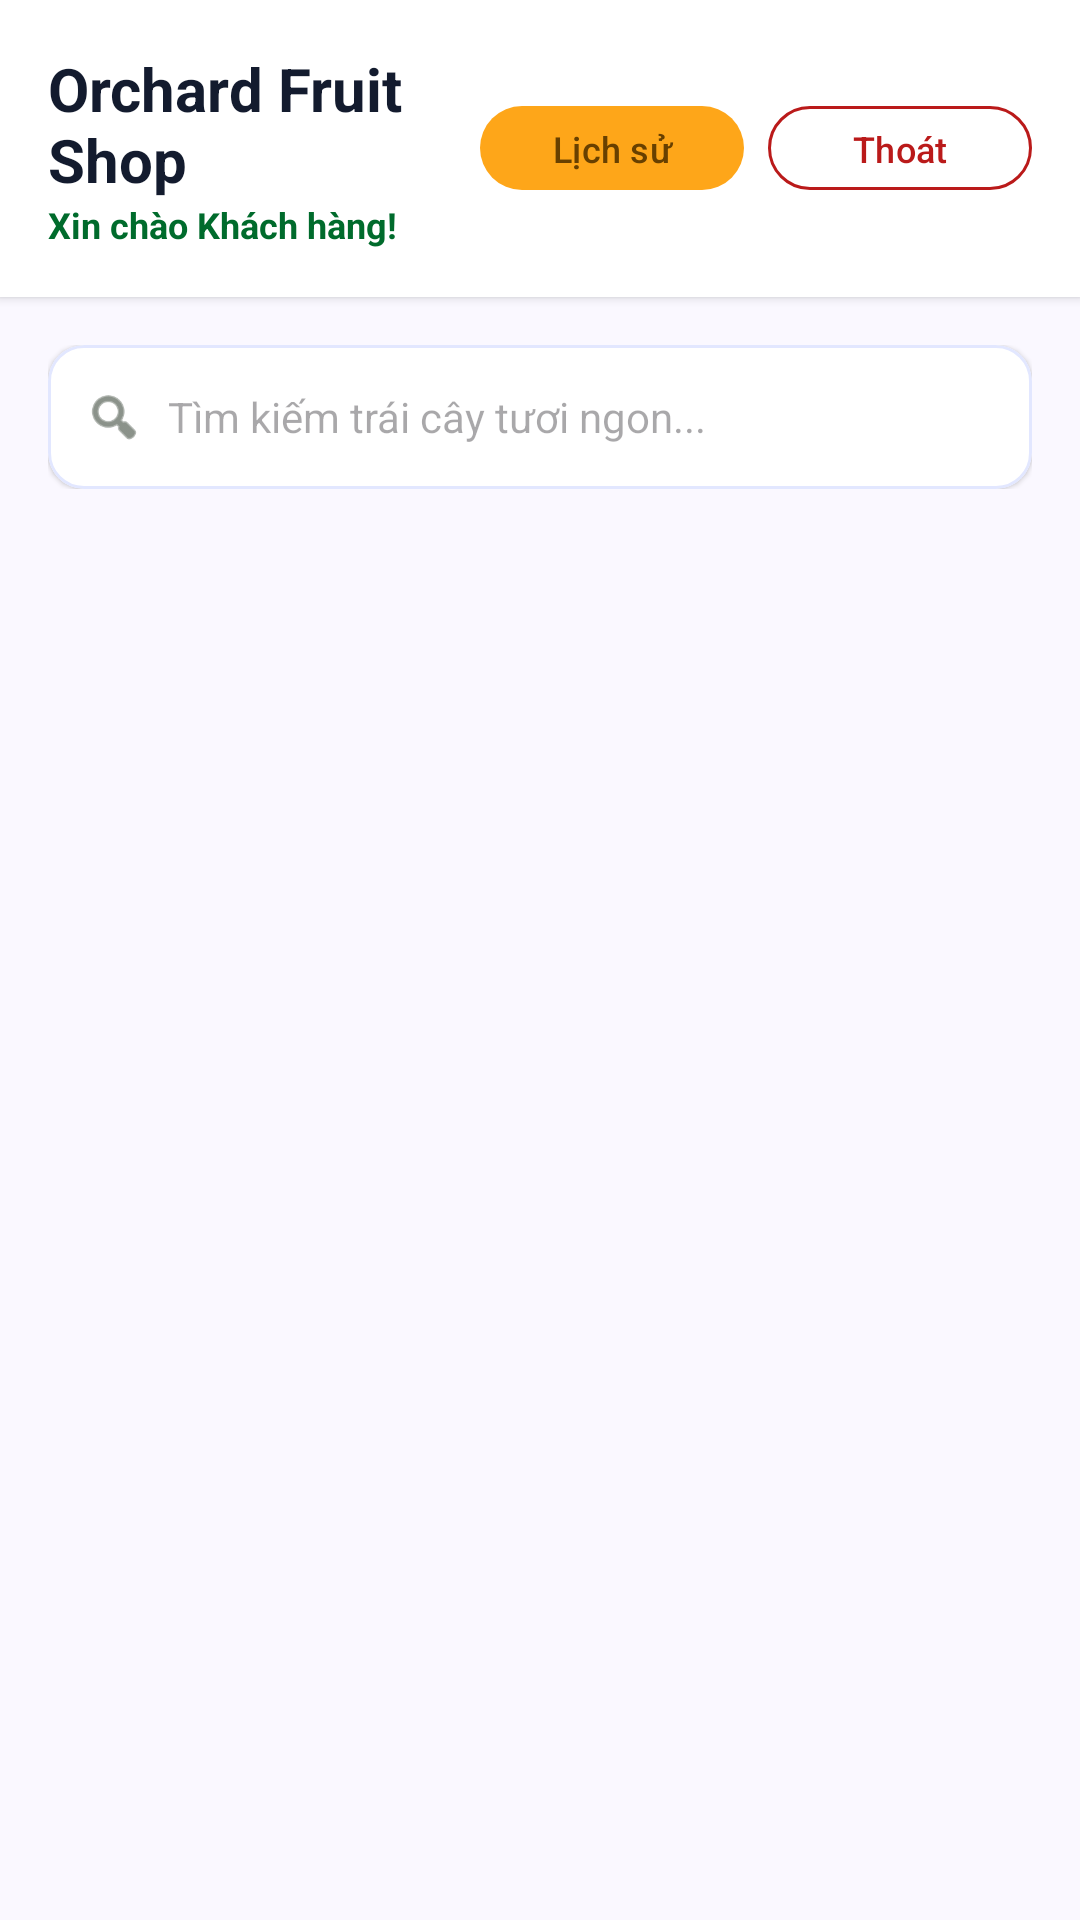

Icon click points for this 1080×1920 phone screenshot, format (x=x, y=y):
search: (x=114, y=417)
